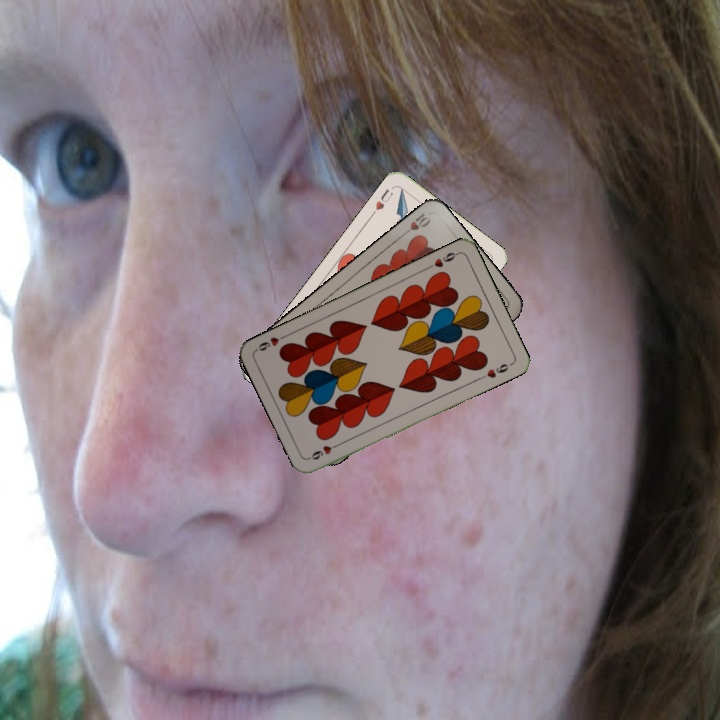H10: (397, 208, 433, 239)
H9: (305, 439, 344, 463), (423, 248, 461, 271)
HU: (371, 185, 396, 213)
